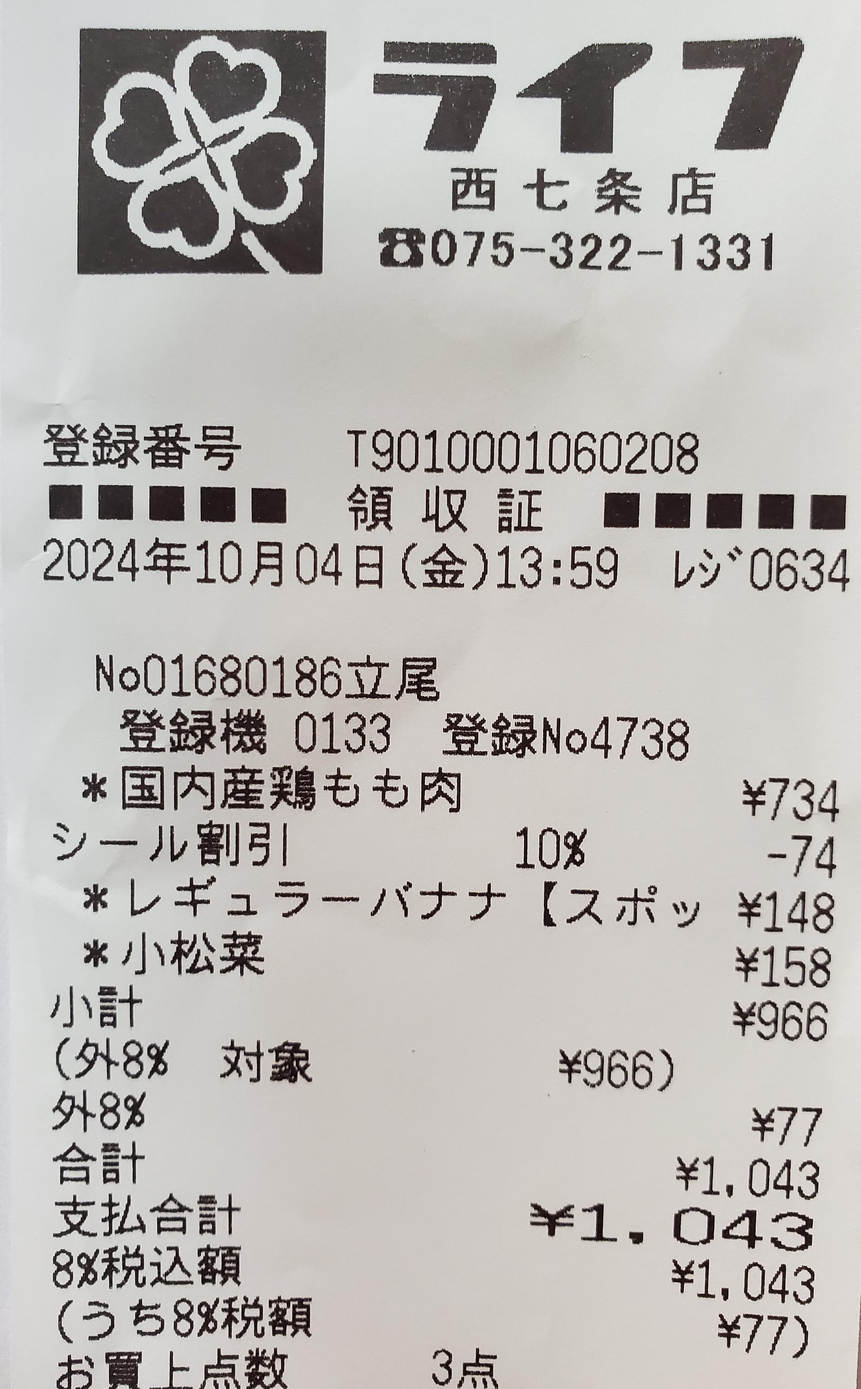TEL: (427, 217, 775, 284)
total: (584, 1201, 827, 1251)
